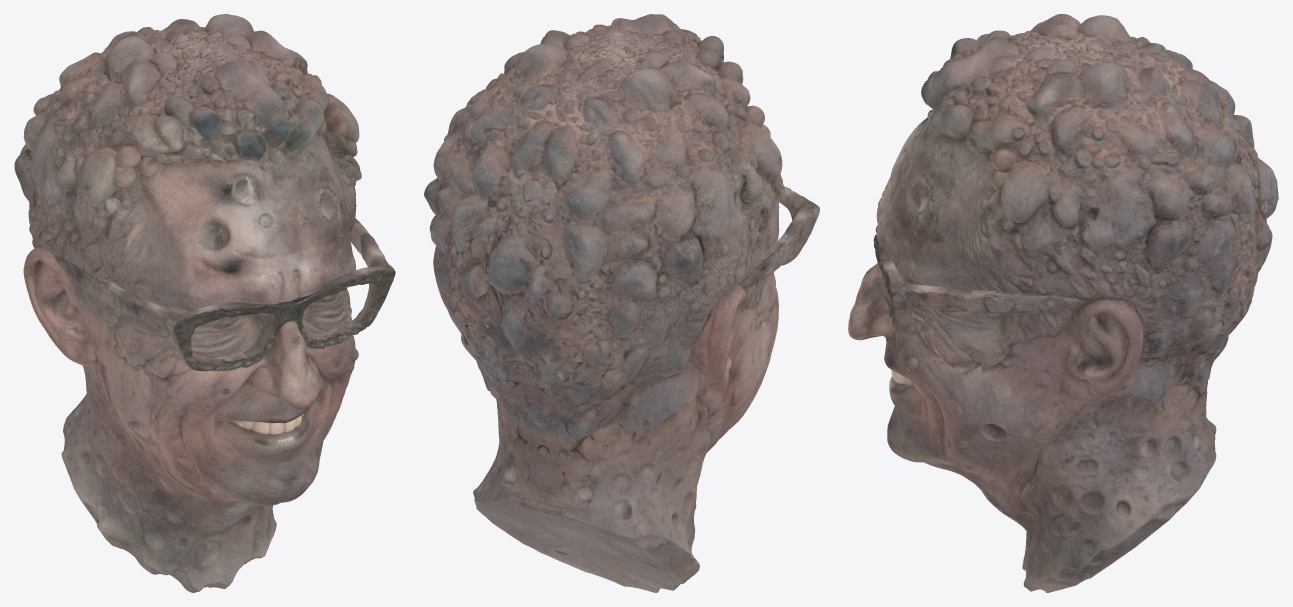
Rendered from Greenwood.glb.
3 views of the same model, side by side, from view 1: azimuth 30°, elevation 25°; view 2: azimuth 150°, elevation 25°; view 3: azimuth 270°, elevation 25° (orthographic). The views are drawn at different scales.
Size of the model in its own units: 1.05 by 1.9 by 1.35.
1 material, 1 textured.
